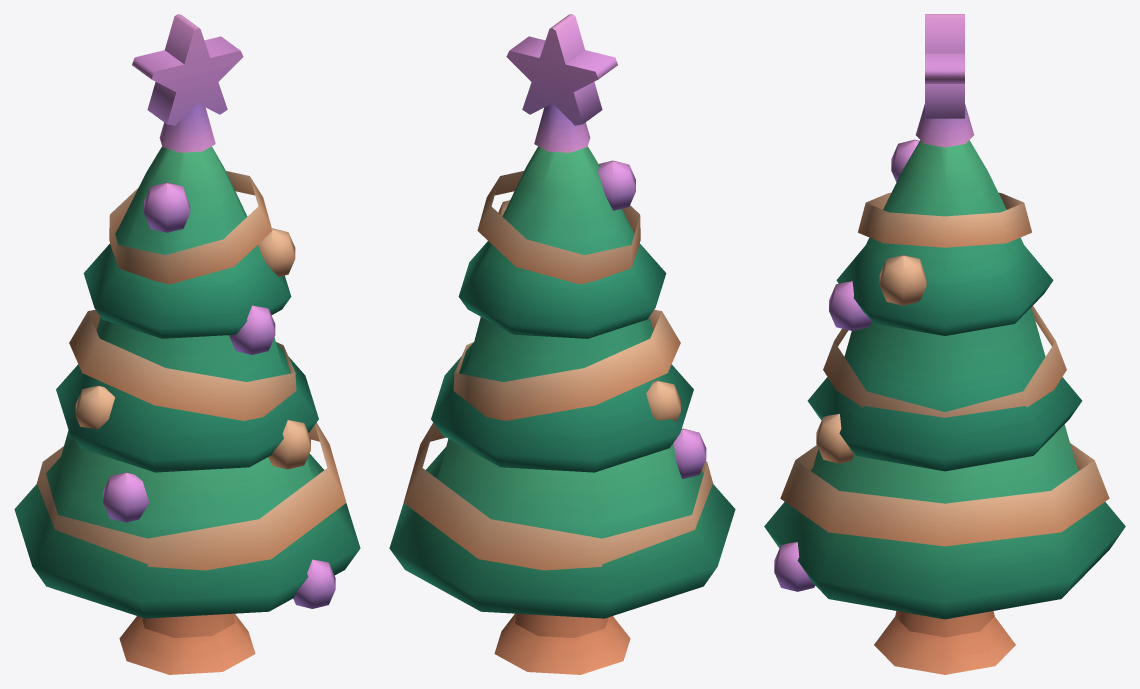
The model's file is k-holiday-tree-decorated.glb.
3 renders of one model, left to right at view 1: azimuth 30°, elevation 25°; view 2: azimuth 150°, elevation 25°; view 3: azimuth 270°, elevation 25°, orthographic.
Parts seen in each view (by area): view 1: tree-decorated; view 2: tree-decorated; view 3: tree-decorated.
Part boxes in pixels (left/top/right/bottom): tree-decorated: left=14, top=14, right=360, bottom=674; tree-decorated: left=389, top=14, right=735, bottom=674; tree-decorated: left=764, top=14, right=1125, bottom=674.
Bounding box in the file's own units: 1.19 × 2.29 × 1.19.
1 material, 1 textured.
